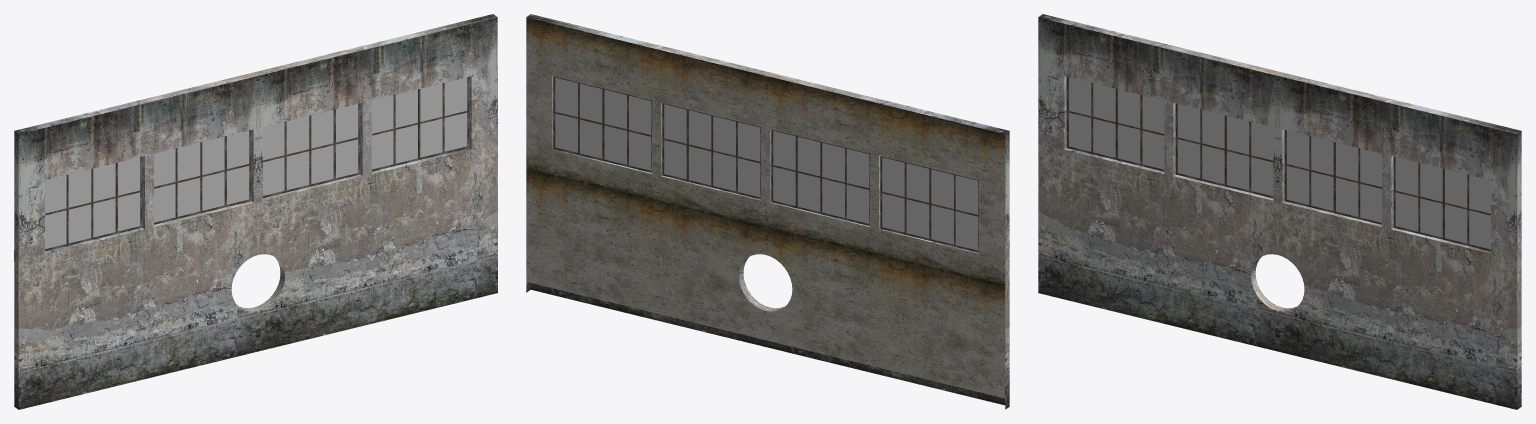
Rendered from Factory1Wall05.FBX.
3 views of the same model, side by side, from view 1: azimuth 30°, elevation 25°; view 2: azimuth 150°, elevation 25°; view 3: azimuth 330°, elevation 25° (orthographic).
Parts seen in each view (by area): view 1: Factory1Wall05, Factory1Wall05Glass; view 2: Factory1Wall05, Factory1Wall05Glass; view 3: Factory1Wall05, Factory1Wall05Glass.
Part boxes in pixels (box(x1,y1,x2,y2)): Factory1Wall05: box(14, 14, 497, 409); Factory1Wall05Glass: box(45, 77, 467, 248); Factory1Wall05: box(526, 14, 1009, 409); Factory1Wall05Glass: box(555, 77, 978, 250); Factory1Wall05: box(1038, 14, 1521, 409); Factory1Wall05Glass: box(1069, 77, 1490, 249).
Size of the model in its own units: 1800 by 990 by 30.01.
